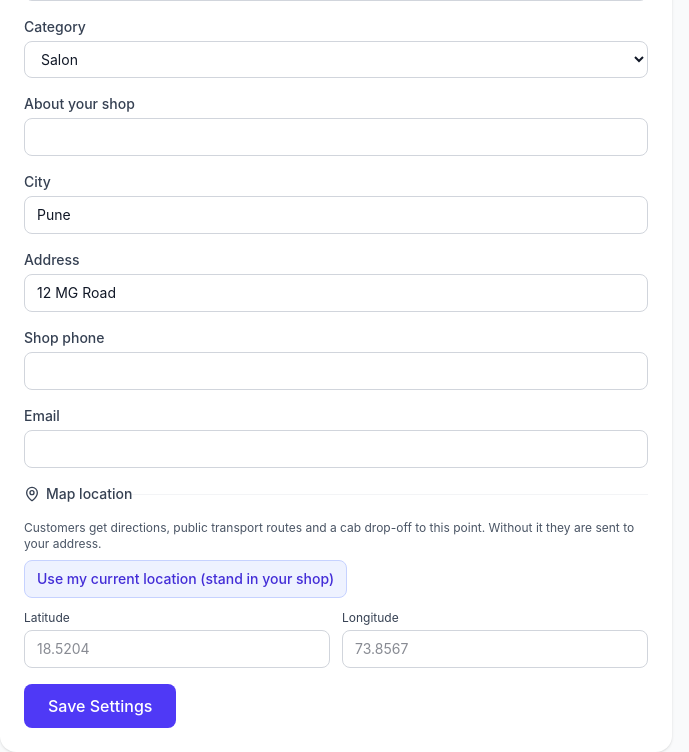
Test case: SettingsPage map location › refuses half a location or impossible values
The image size is (689, 752).
(page scrolled)
Type "18.5" into the field labelled "Latitude".
click(177, 649); type("18.5")  # box 24,630 -> 330,668
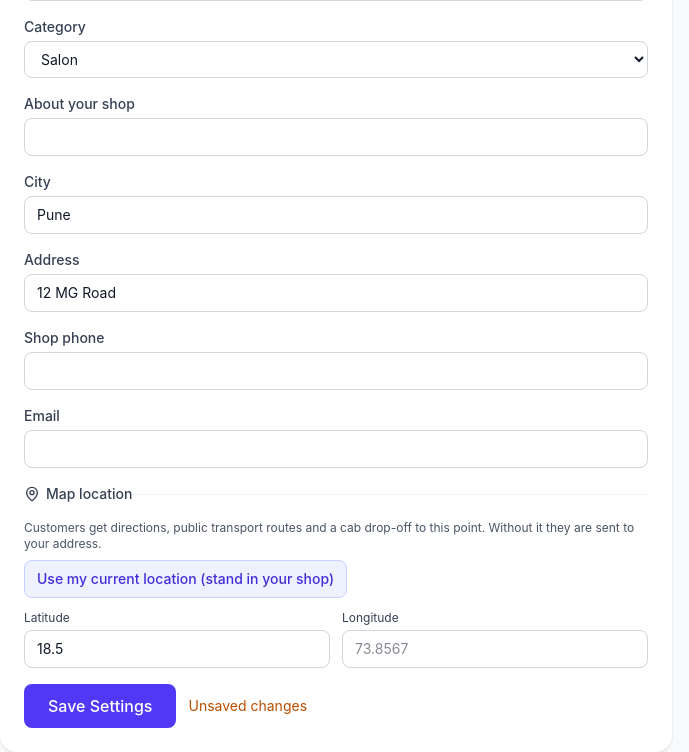
Click the button "Save Settings".
click(100, 706)  # box 24,684 -> 176,728
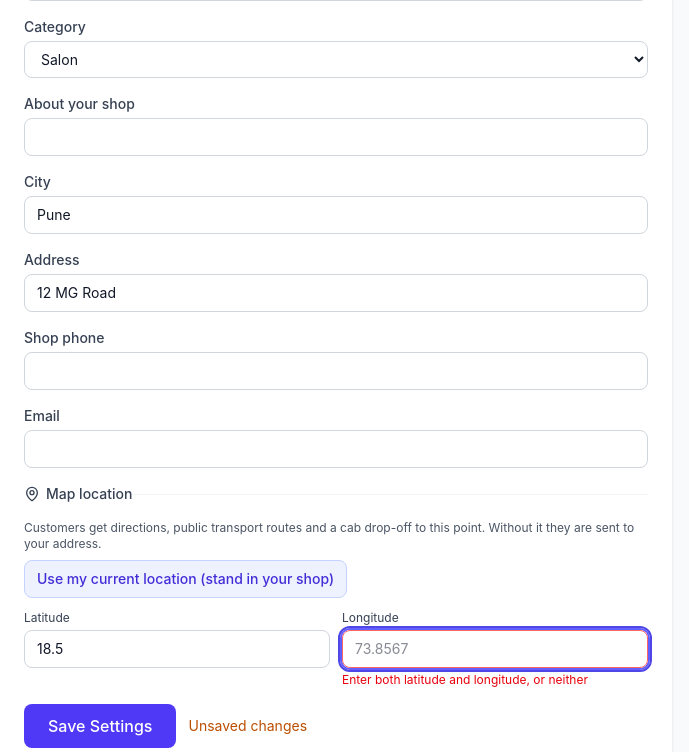
Result: the text "Enter both latitude and longitude, or neither" is shown at 342,672 -> 588,687
Replace the text in the field labelled "Latitude" with "123" at (177, 649), box 24,630 -> 330,668
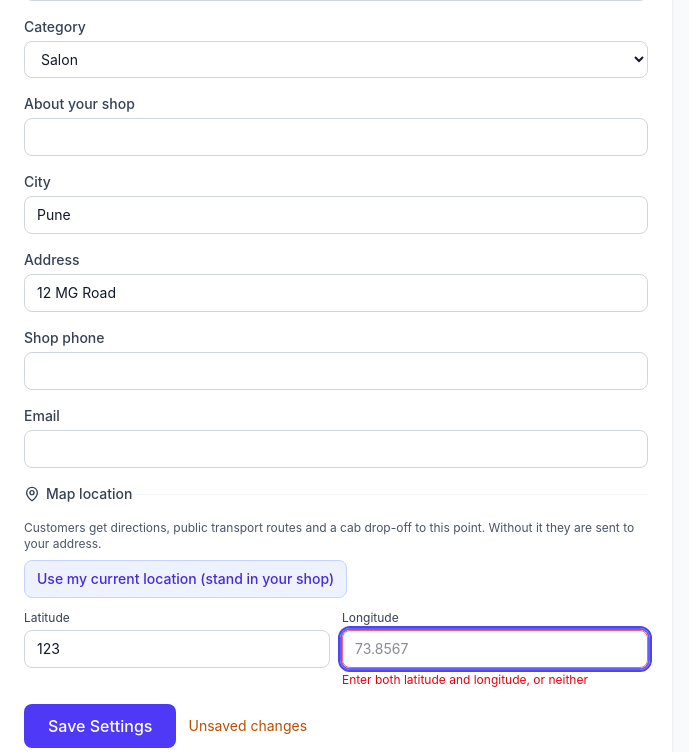
Type "73.8" into the field labelled "Longitude".
click(495, 649); type("73.8")  # box 342,630 -> 648,668
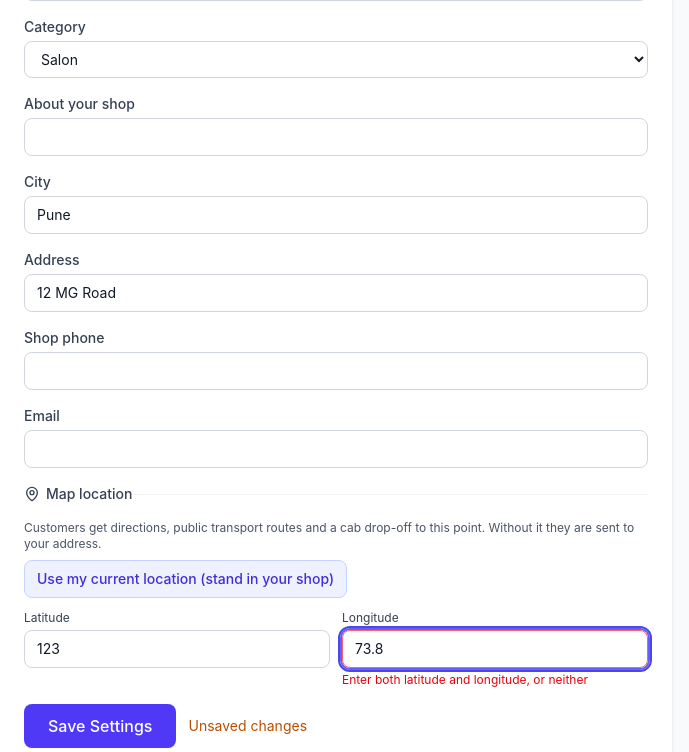
Click the button "Save Settings".
click(100, 726)  # box 24,704 -> 176,748
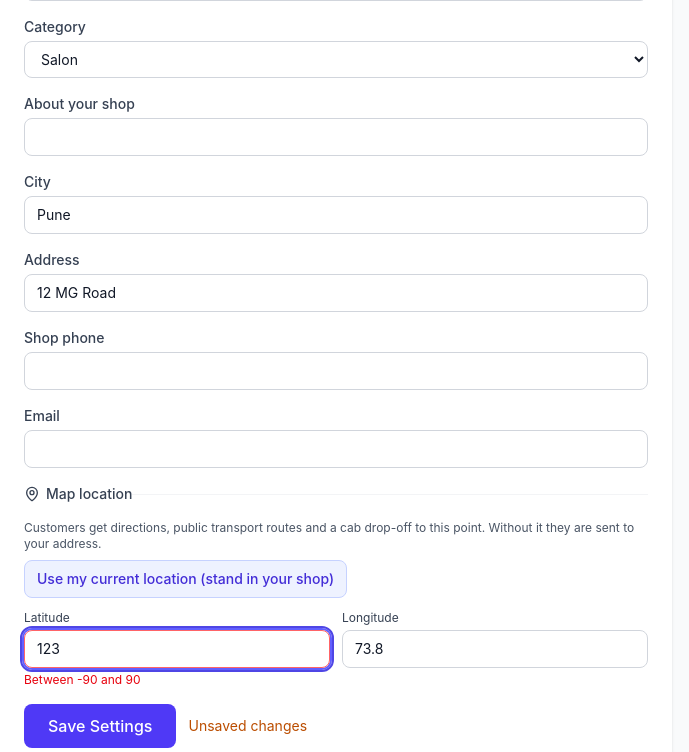
Result: the text "Between -90 and 90" is shown at 24,672 -> 140,687
